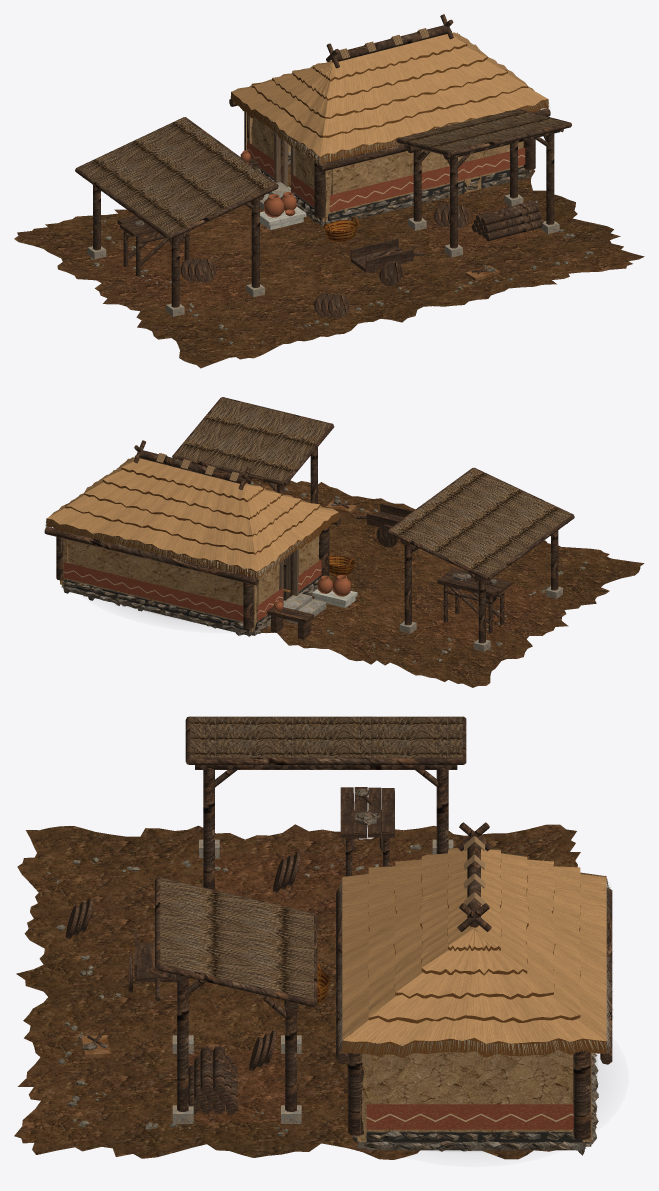
The model's file is cartwright.glb.
3 renders of one model, top to bottom at view 1: azimuth 30°, elevation 25°; view 2: azimuth 150°, elevation 25°; view 3: azimuth 270°, elevation 25°, orthographic. The views are drawn at different scales.
Parts seen in each view (by area): view 1: part_1, part_18, part_8, part_13, part_11, part_5, part_19, part_22, part_4, part_12, part_21, part_20 (+5 smaller); view 2: part_1, part_13, part_18, part_8, part_5, part_19, part_11, part_22, part_4, part_20, part_12, part_21 (+5 smaller); view 3: part_1, part_18, part_8, part_13, part_5, part_11, part_19, part_22, part_4, part_20, part_21, part_12 (+1 smaller).
Boxes of the visible parts, bbox=[...] form: part_1: bbox=[14, 169, 644, 368]; part_18: bbox=[231, 32, 548, 156]; part_8: bbox=[75, 14, 571, 317]; part_13: bbox=[78, 109, 567, 234]; part_11: bbox=[97, 204, 546, 312]; part_5: bbox=[246, 112, 533, 222]; part_19: bbox=[231, 31, 548, 165]; part_22: bbox=[247, 141, 525, 211]; part_4: bbox=[135, 151, 531, 272]; part_12: bbox=[87, 180, 559, 316]; part_21: bbox=[257, 159, 529, 220]; part_20: bbox=[230, 34, 549, 165]; part_1: bbox=[83, 477, 644, 687]; part_13: bbox=[175, 398, 571, 576]; part_18: bbox=[46, 455, 338, 571]; part_8: bbox=[44, 397, 574, 643]; part_5: bbox=[60, 535, 319, 631]; part_19: bbox=[46, 467, 338, 578]; part_11: bbox=[412, 585, 554, 647]; part_22: bbox=[63, 559, 321, 621]; part_4: bbox=[61, 499, 496, 636]; part_20: bbox=[45, 459, 339, 579]; part_12: bbox=[283, 586, 562, 651]; part_21: bbox=[62, 577, 320, 635]; part_1: bbox=[14, 824, 580, 1159]; part_18: bbox=[342, 848, 606, 1045]; part_8: bbox=[65, 716, 612, 1139]; part_13: bbox=[160, 717, 462, 999]; part_5: bbox=[357, 1050, 591, 1141]; part_11: bbox=[188, 853, 432, 1122]; part_19: bbox=[342, 848, 606, 1057]; part_22: bbox=[366, 1104, 573, 1129]; part_4: bbox=[82, 788, 598, 1155]; part_20: bbox=[336, 878, 613, 1058]; part_21: bbox=[366, 1131, 590, 1145]; part_12: bbox=[172, 839, 453, 1123].
Size of the model in its own units: 9.57 by 2.8 by 7.25.
Materials: 23 (18 with a texture image).
